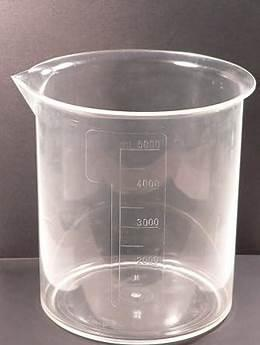Beaker: (3, 51, 253, 338)
